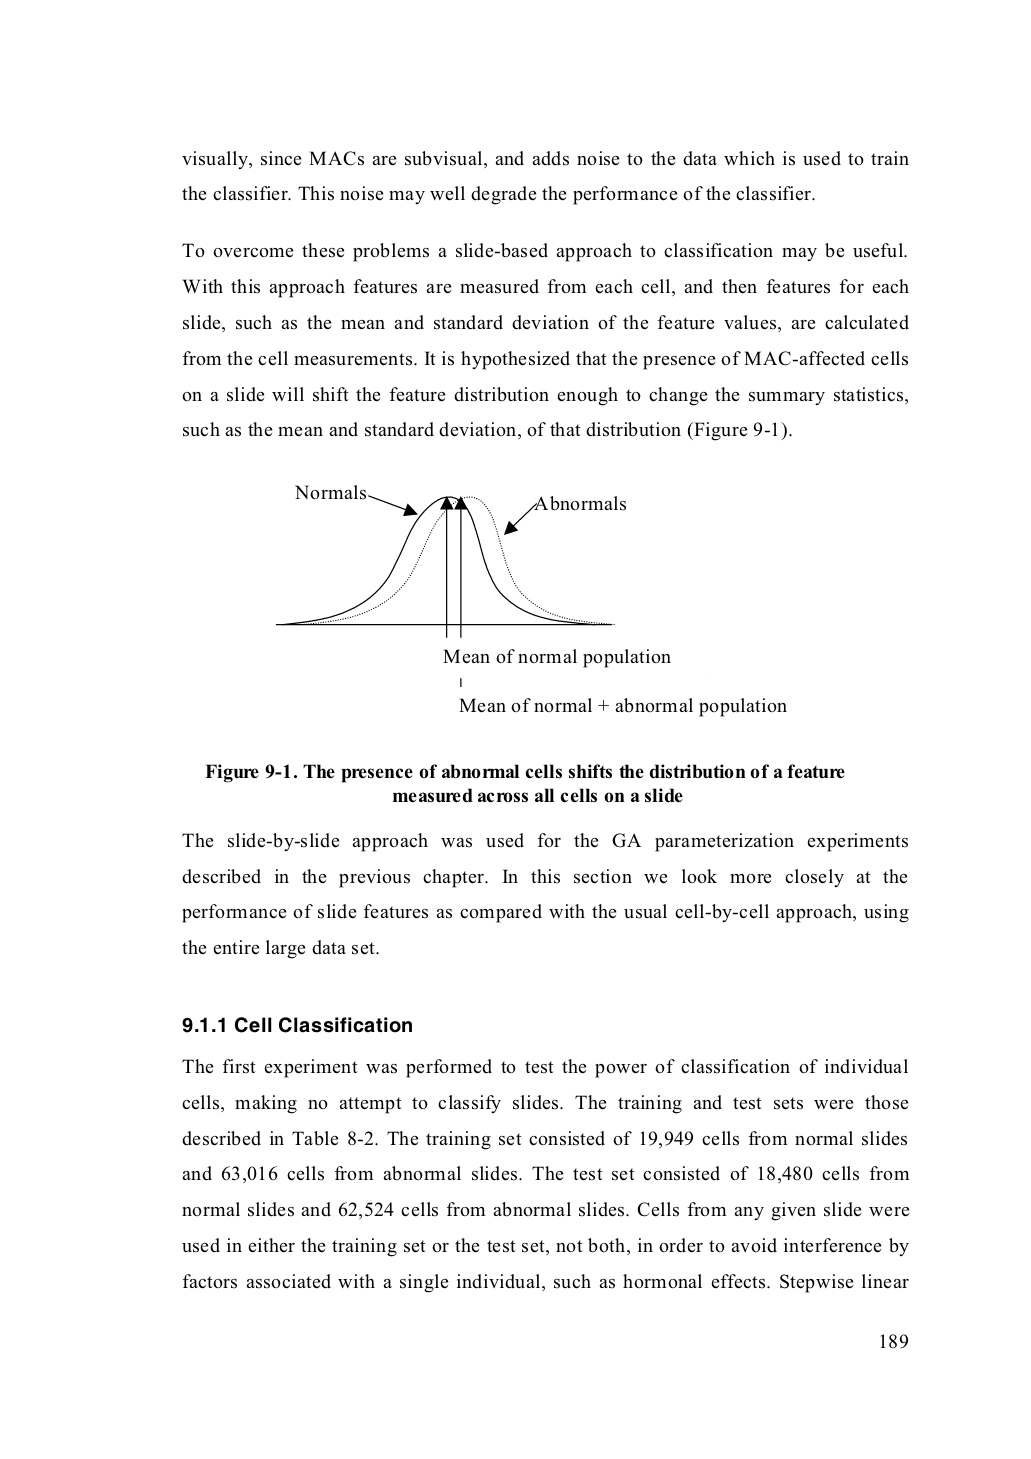figure: (274, 484, 625, 638)
formula: (459, 697, 786, 717)
